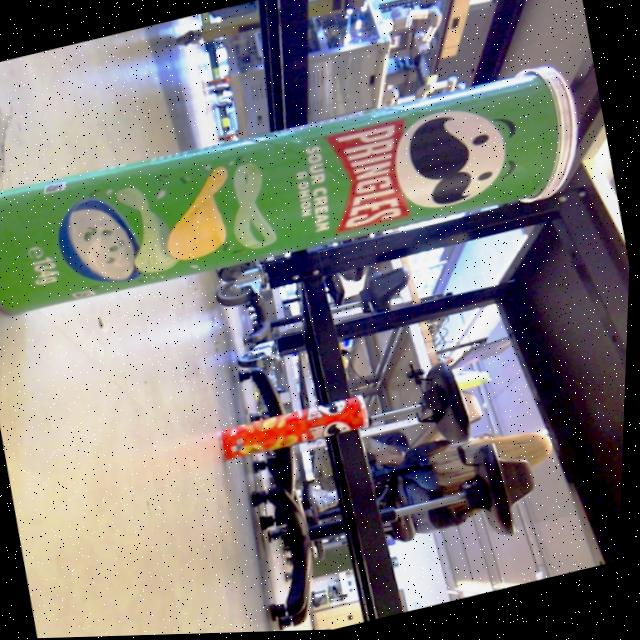greenpringles: (0, 37, 608, 360)
redpringles: (184, 369, 402, 491)
